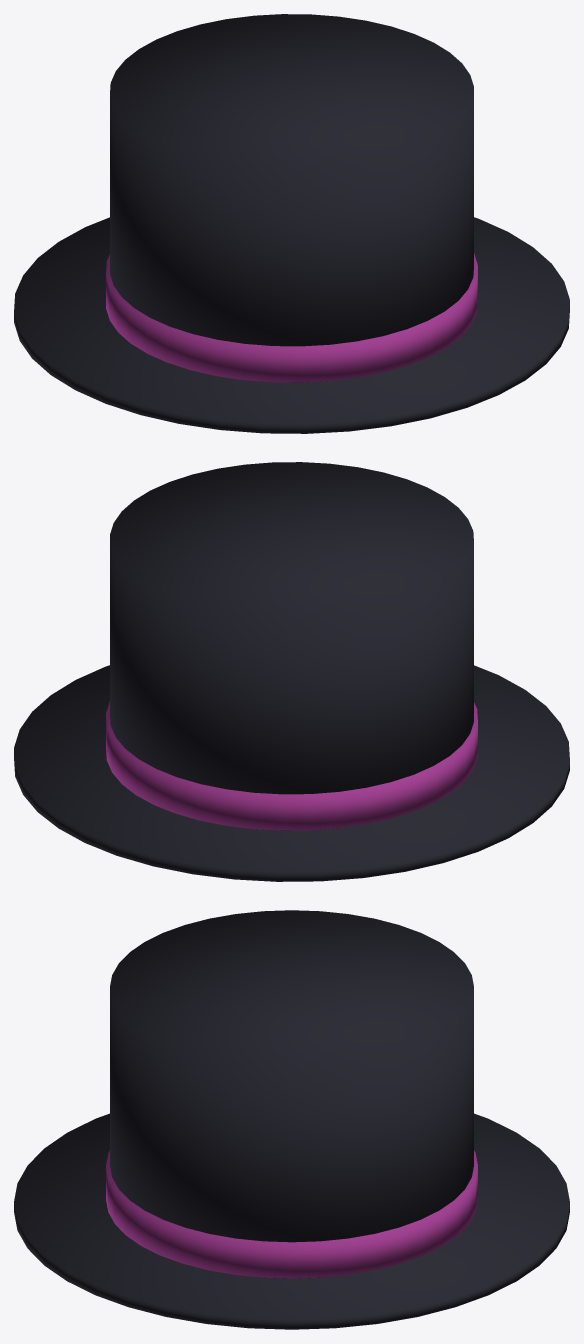
Rendered from top_hat.obj.
3 views of the same model, one above another, from view 1: azimuth 30°, elevation 25°; view 2: azimuth 150°, elevation 25°; view 3: azimuth 270°, elevation 25° (orthographic).
Parts seen in each view (by area): view 1: hat_felt, hat_ribbon; view 2: hat_felt, hat_ribbon; view 3: hat_felt, hat_ribbon.
Part boxes in pixels (<box>): hat_felt: <box>14,14,569,433</box>; hat_ribbon: <box>106,253,477,382</box>; hat_felt: <box>14,462,569,881</box>; hat_ribbon: <box>106,701,477,830</box>; hat_felt: <box>14,910,569,1329</box>; hat_ribbon: <box>106,1150,477,1278</box>.
Bounding box in the file's own units: 0.29 × 0.1295 × 0.29.
